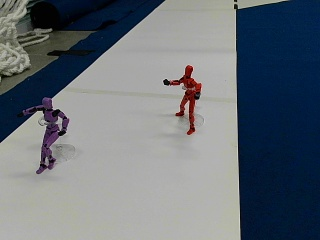pedestrian: (17, 96, 68, 171), (162, 64, 201, 133)
